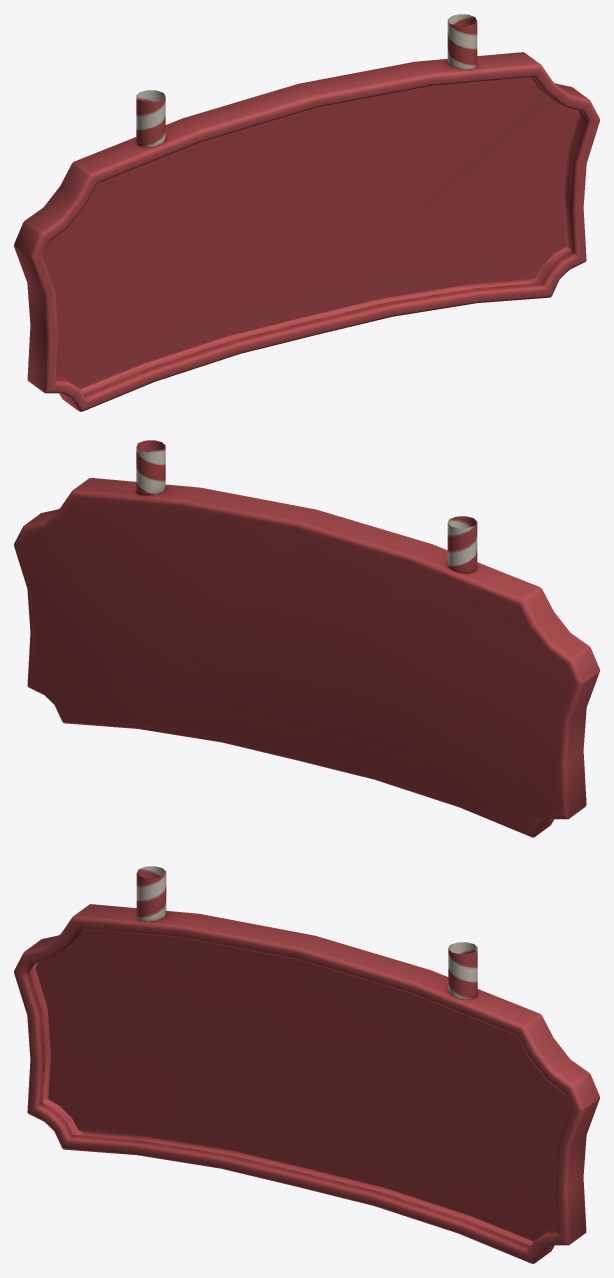
Rendered from SM_ColorSwitchGuide01.fbx.
3 renders of one model, top to bottom at view 1: azimuth 30°, elevation 25°; view 2: azimuth 150°, elevation 25°; view 3: azimuth 330°, elevation 25°, orthographic.
Parts seen in each view (by area): view 1: SM_ColorSwitchGuide01; view 2: SM_ColorSwitchGuide01; view 3: SM_ColorSwitchGuide01.
Boxes of the visible parts, x1,y1,x2,y2 form: SM_ColorSwitchGuide01: [14, 14, 599, 411]; SM_ColorSwitchGuide01: [14, 440, 599, 837]; SM_ColorSwitchGuide01: [14, 866, 599, 1263].
Size of the model in its own units: 1102 by 537 by 66.89.
